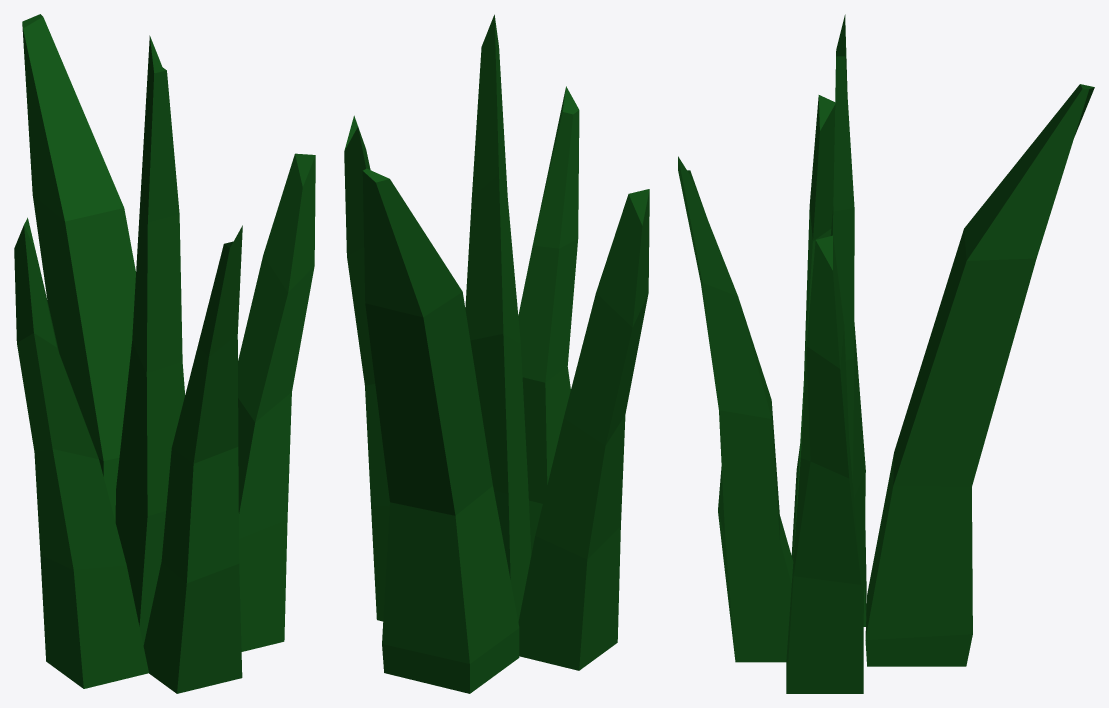
File: Grass 1.fbx
3 renders of one model, left to right at view 1: azimuth 30°, elevation 25°; view 2: azimuth 150°, elevation 25°; view 3: azimuth 270°, elevation 25°, orthographic. The views are drawn at different scales.
Visible parts, largest first — view 1: Cubo, Cubo.002, Cubo.001, Cubo.003, Cubo.004; view 2: Cubo, Cubo.002, Cubo.004, Cubo.001, Cubo.003; view 3: Cubo, Cubo.003, Cubo.001, Cubo.004, Cubo.002.
Boxes of the visible parts, x1,y1,x2,y2 form: Cubo: (22,14,135,521); Cubo.002: (14,217,148,688); Cubo.001: (143,225,242,693); Cubo.003: (238,153,315,651); Cubo.004: (115,35,185,645); Cubo: (362,168,519,693); Cubo.002: (518,189,649,670); Cubo.004: (465,14,531,621); Cubo.001: (518,86,579,554); Cubo.003: (344,115,389,621); Cubo: (865,84,1094,666); Cubo.003: (786,235,863,693); Cubo.001: (678,156,793,662); Cubo.004: (830,14,865,657); Cubo.002: (791,95,866,626).
Bounding box in the file's own units: 35.24 × 70.51 × 42.36.
